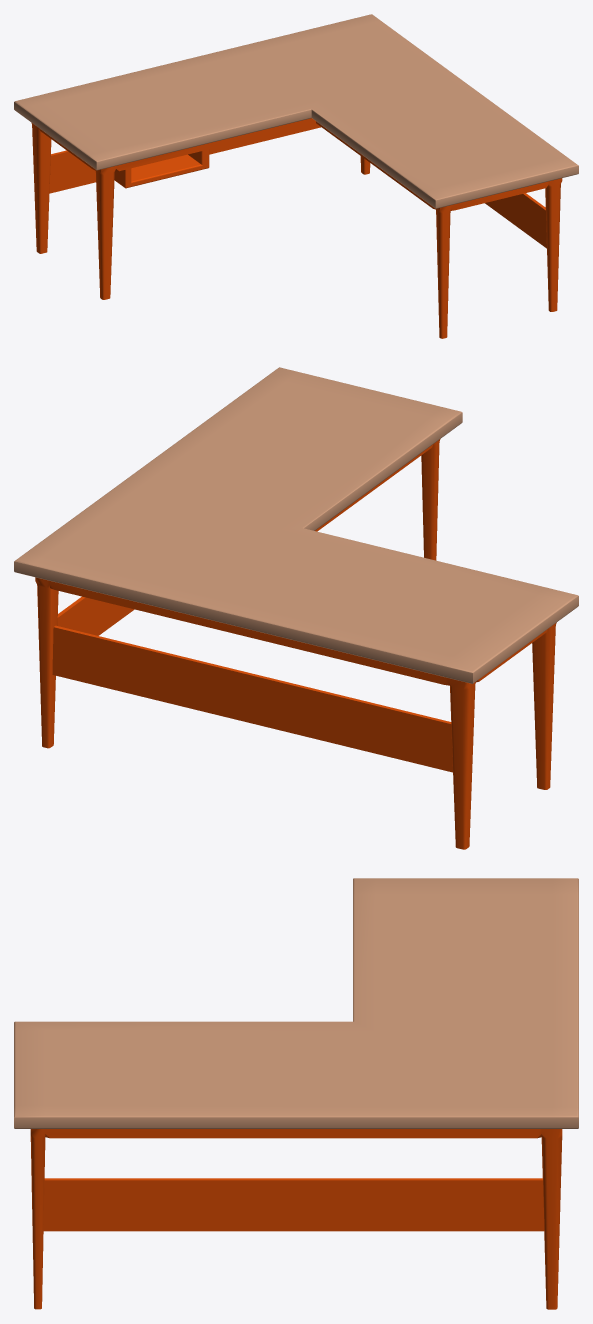
File: cornerDesk_v1.fbx
The picture shows the model from 3 angles, top to bottom: view 1: azimuth 30°, elevation 25°; view 2: azimuth 150°, elevation 25°; view 3: azimuth 270°, elevation 25°; orthographic projection. The views are drawn at different scales.
Parts seen in each view (by area): view 1: Corner_desk; view 2: Corner_desk; view 3: Corner_desk.
Part boxes in pixels (left/top/right/bottom): Corner_desk: left=14, top=14, right=578, bottom=338; Corner_desk: left=14, top=367, right=578, bottom=849; Corner_desk: left=14, top=878, right=578, bottom=1309.
Size of the model in its own units: 230 by 90.86 by 230.
